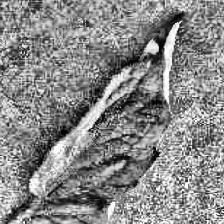leaf mold: (20, 12, 183, 224)
